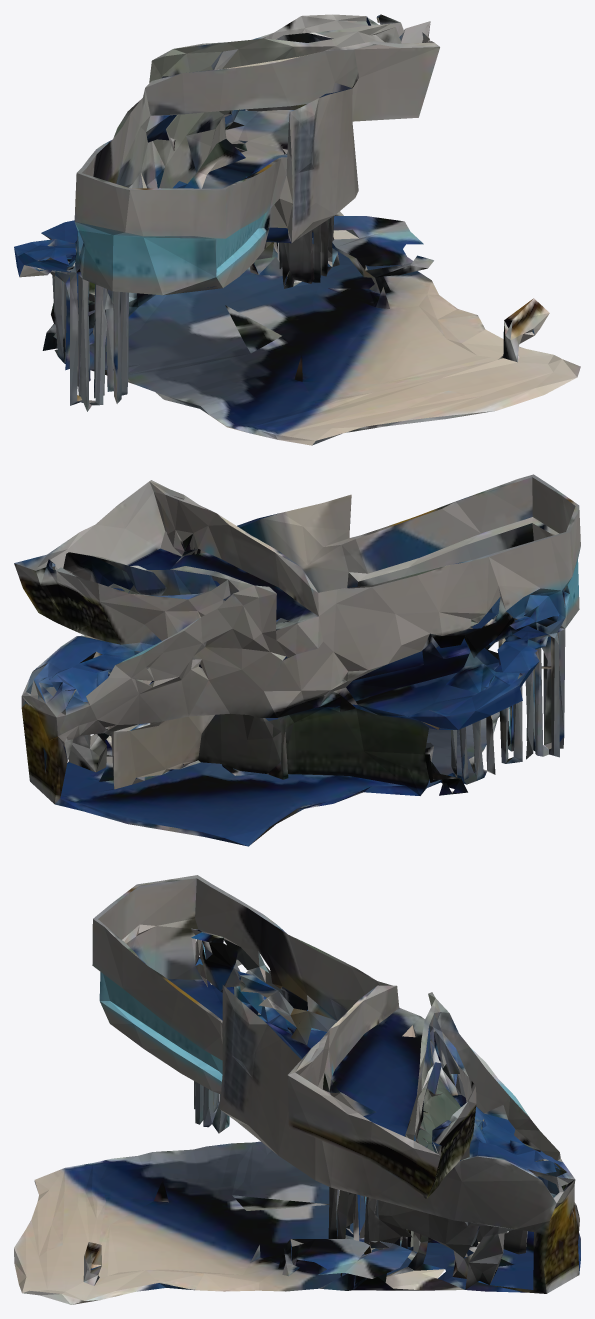
File: podio_monza.glb
3 views of the same model, one above another, from view 1: azimuth 30°, elevation 25°; view 2: azimuth 150°, elevation 25°; view 3: azimuth 270°, elevation 25° (orthographic). The views are drawn at different scales.
Parts seen in each view (by area): view 1: tmp77l1cxij.ply; view 2: tmp77l1cxij.ply; view 3: tmp77l1cxij.ply.
Part boxes in pixels (box(x1,y1,x2,y2)): tmp77l1cxij.ply: box(14, 14, 580, 445); tmp77l1cxij.ply: box(14, 474, 580, 846); tmp77l1cxij.ply: box(14, 875, 580, 1304).
Bounding box in the file's own units: 1.88 × 0.9249 × 1.99.
Materials: 1 (1 with a texture image).
